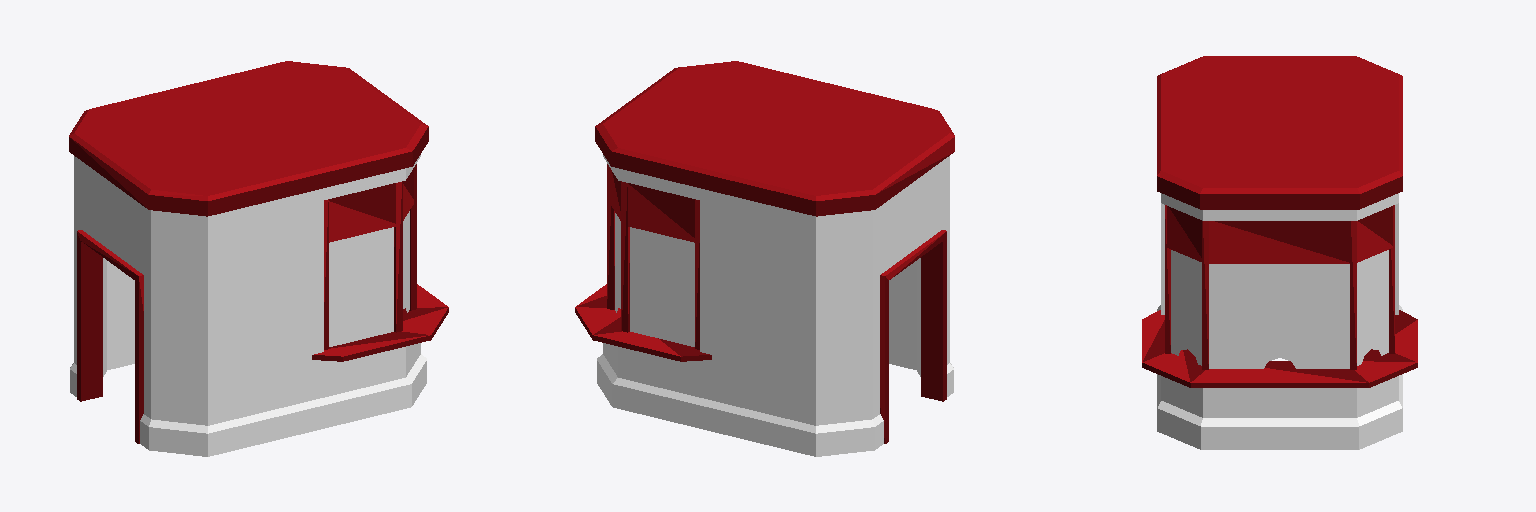
The model's file is ticket_booth.obj.
3 views of the same model, side by side, from view 1: azimuth 30°, elevation 25°; view 2: azimuth 150°, elevation 25°; view 3: azimuth 270°, elevation 25° (orthographic).
Parts seen in each view (by area): view 1: obj1, obj4, obj3, obj2; view 2: obj1, obj4, obj3, obj2; view 3: obj4, obj2, obj3, obj1.
Part boxes in pixels (bbox=[...]): obj1: bbox=[70, 155, 426, 456]; obj4: bbox=[69, 61, 428, 216]; obj3: bbox=[77, 164, 448, 443]; obj2: bbox=[329, 211, 409, 346]; obj1: bbox=[597, 155, 953, 456]; obj4: bbox=[595, 61, 954, 216]; obj3: bbox=[575, 164, 946, 443]; obj2: bbox=[615, 213, 694, 346]; obj4: bbox=[1157, 56, 1402, 209]; obj2: bbox=[1171, 250, 1388, 368]; obj3: bbox=[1142, 205, 1417, 387]; obj1: bbox=[1157, 193, 1402, 449].
Size of the model in its own units: 4.07 by 3.4 by 3.28.